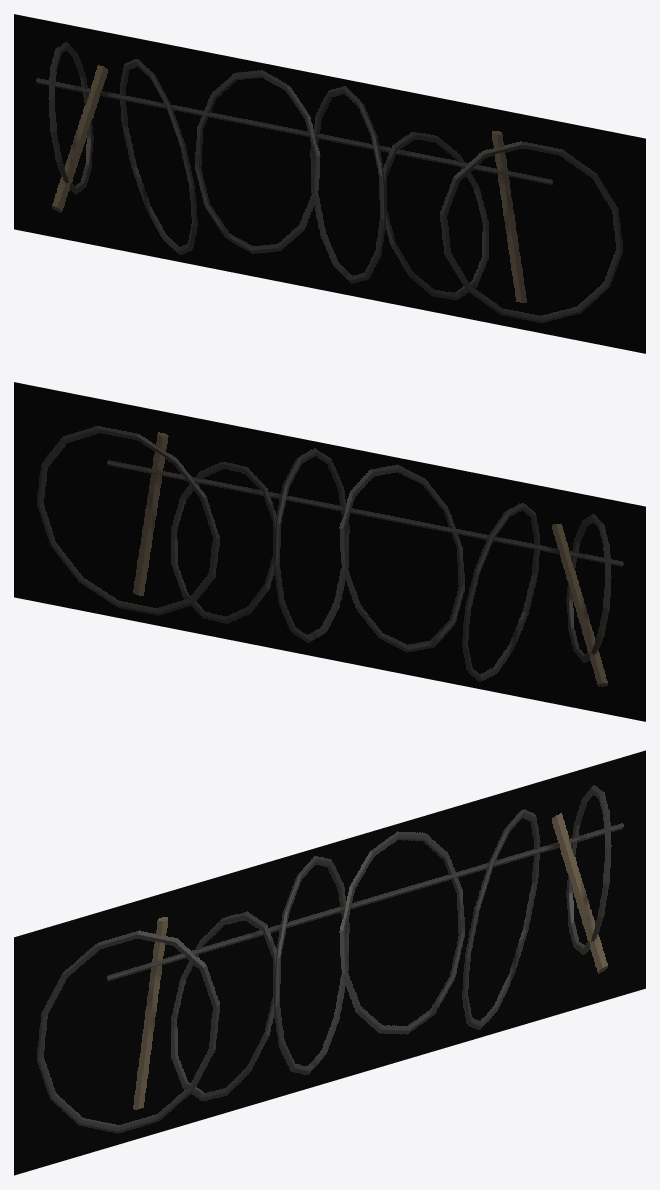
File: barbwire_card.glb
The picture shows the model from 3 angles, top to bottom: view 1: azimuth 30°, elevation 25°; view 2: azimuth 210°, elevation 25°; view 3: azimuth 270°, elevation 25°; orthographic projection. The views are drawn at different scales.
Visible parts, largest first — view 1: bwire_card; view 2: bwire_card; view 3: bwire_card.
Part boxes in pixels (x1,y1,x2,y2): bwire_card: (14, 14, 645, 353); bwire_card: (14, 382, 645, 721); bwire_card: (14, 750, 645, 1175).
Size of what is drawn, in the model's own units: 1.57 by 0.93 by 2.24.
1 material, 1 textured.
